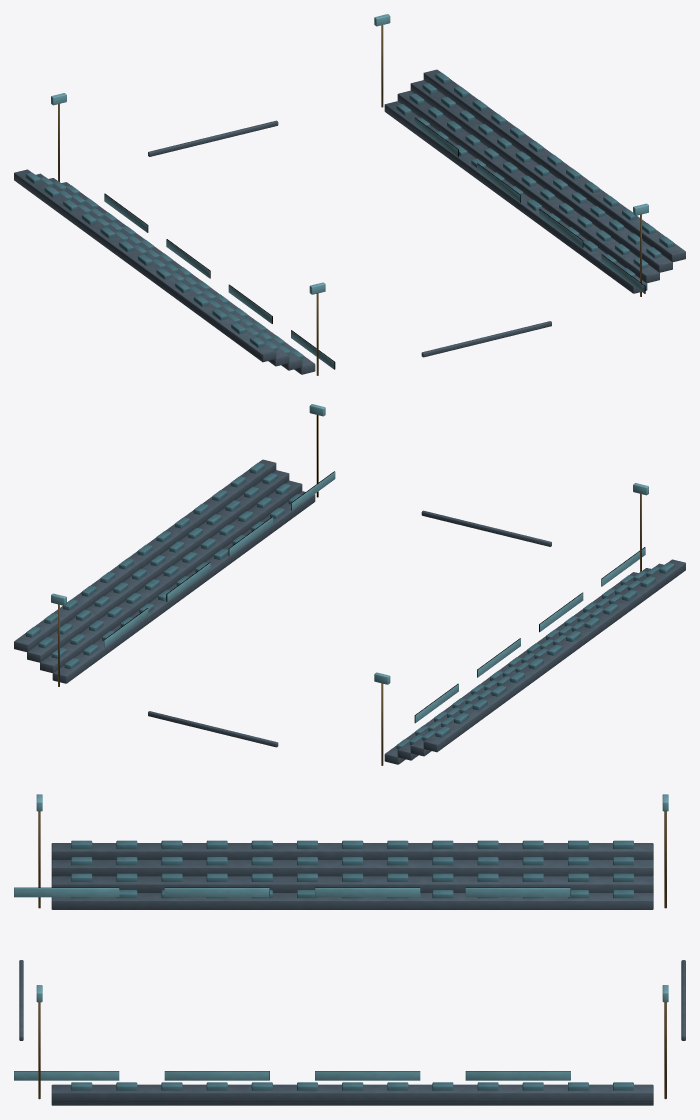
File: environment.glb
The picture shows the model from 3 angles, top to bottom: view 1: azimuth 30°, elevation 25°; view 2: azimuth 150°, elevation 25°; view 3: azimuth 270°, elevation 25°; orthographic projection. The views are drawn at different scales.
Parts seen in each view (by area): view 1: Game_Mesh; view 2: Game_Mesh; view 3: Game_Mesh.
Part boxes in pixels (<box>): Game_Mesh: <box>14,14,685,375</box>; Game_Mesh: <box>14,404,685,765</box>; Game_Mesh: <box>14,794,685,1105</box>.
Size of the model in its own units: 39.3 by 8.1 by 44.65.
Materials: 1 (1 with a texture image).
